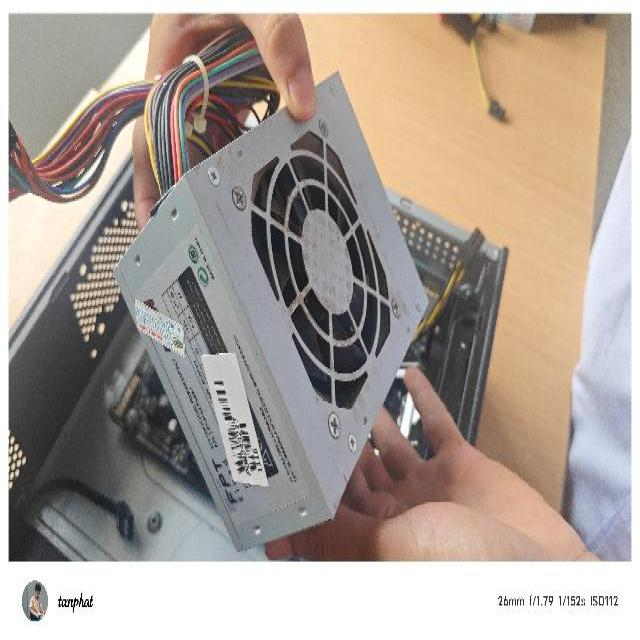PSU: (109, 67, 429, 553)
